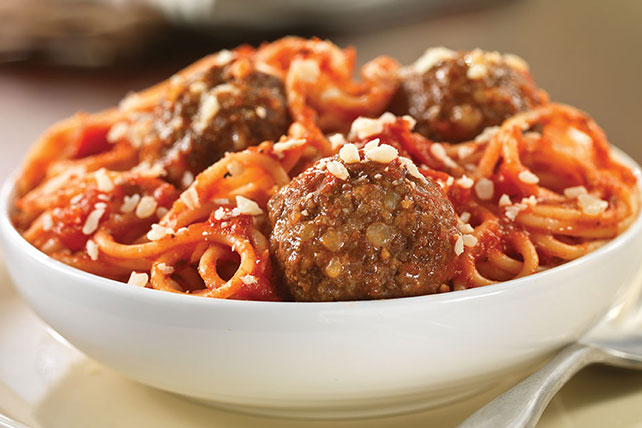meatballs: (278, 147, 444, 273)
plain spaghetti: (83, 163, 257, 257)
